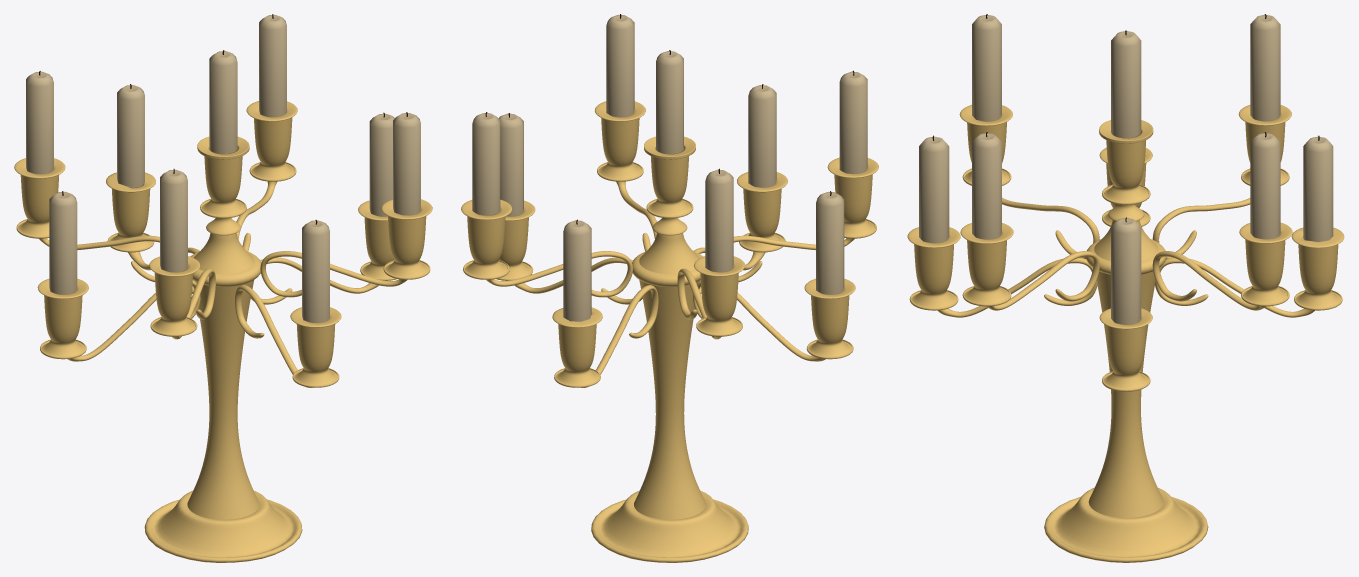
The model's file is Candelabra.fbx.
The picture shows the model from 3 angles, left to right: view 1: azimuth 30°, elevation 25°; view 2: azimuth 150°, elevation 25°; view 3: azimuth 270°, elevation 25°; orthographic projection. The views are drawn at different scales.
Parts seen in each view (by area): view 1: Candle.002, Candle, Body, Middle cups, Base cups, Base, Top holders, Base holders, Candle.001, Top cup, Base rim.001, Middle (+4 smaller); view 2: Candle.002, Candle, Body, Middle cups, Base cups, Base, Top holders, Base holders, Candle.001, Top cup, Base rim.001, Middle (+4 smaller); view 3: Candle.002, Candle, Base, Base cups, Body, Middle cups, Top holders, Candle.001, Top cup, Base holders, Base rim.001, Middle rim.002 (+4 smaller).
Boxes of the visible parts, <box> form: Candle.002: <box>26,14,420,272</box>; Candle: <box>49,85,394,322</box>; Body: <box>187,280,259,519</box>; Middle cups: <box>16,117,430,336</box>; Base cups: <box>40,189,396,387</box>; Base: <box>144,491,302,562</box>; Top holders: <box>39,181,407,339</box>; Base holders: <box>67,247,378,387</box>; Candle.001: <box>209,51,237,153</box>; Top cup: <box>200,156,246,218</box>; Base rim.001: <box>37,172,387,327</box>; Middle: <box>194,233,254,273</box>; Candle.002: <box>472,14,867,272</box>; Candle: <box>498,85,844,321</box>; Body: <box>634,280,705,519</box>; Middle cups: <box>463,118,876,336</box>; Base cups: <box>496,188,853,387</box>; Base: <box>591,490,748,562</box>; Top holders: <box>486,181,854,339</box>; Base holders: <box>514,247,825,387</box>; Candle.001: <box>656,51,683,153</box>; Top cup: <box>646,156,693,218</box>; Base rim.001: <box>505,172,855,327</box>; Middle: <box>639,233,699,273</box>; Candle.002: <box>972,15,1280,239</box>; Candle: <box>919,136,1333,324</box>; Base: <box>1044,487,1208,562</box>; Base cups: <box>909,163,1342,391</box>; Body: <box>1088,271,1163,517</box>; Middle cups: <box>962,122,1289,306</box>; Top holders: <box>986,197,1265,310</box>; Candle.001: <box>1111,31,1141,138</box>; Top cup: <box>1102,140,1150,204</box>; Base holders: <box>937,257,1314,317</box>; Base rim.001: <box>907,147,1344,329</box>; Middle rim.002: <box>959,105,1292,243</box>.
Size of the model in its own units: 1188 by 1508 by 1187.
